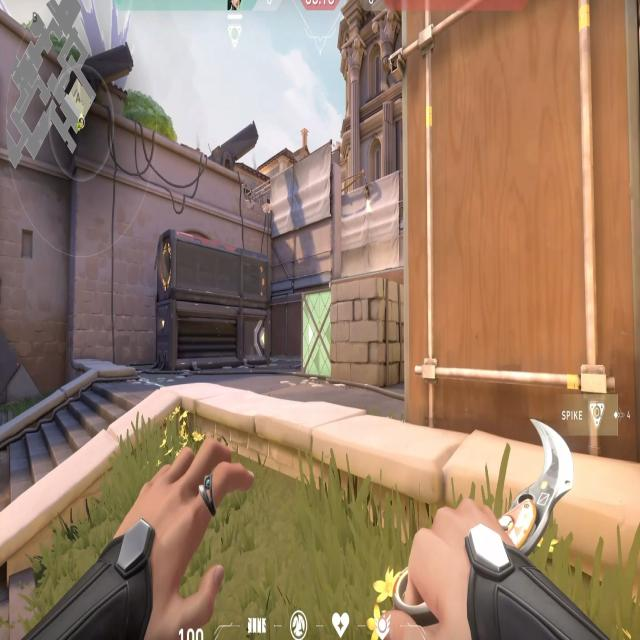A_Heaven_Wall: (266, 142, 342, 296)
A_Site_Box: (298, 277, 405, 400)
